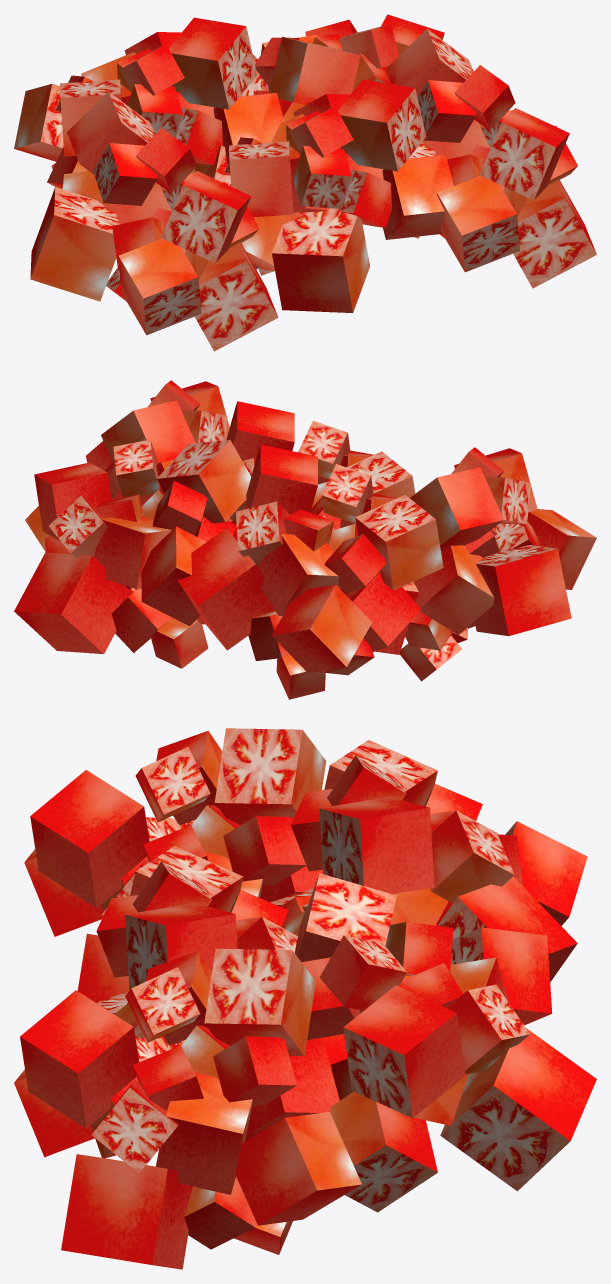
Rendered from tomatoes_stack.fbx.
3 renders of one model, top to bottom at view 1: azimuth 30°, elevation 25°; view 2: azimuth 150°, elevation 25°; view 3: azimuth 270°, elevation 25°, orthographic. The views are drawn at different scales.
Parts seen in each view (by area): view 1: BigMerge; view 2: BigMerge; view 3: BigMerge.
Boxes of the visible parts, <box> form: BigMerge: <box>14,14,596,351</box>; BigMerge: <box>14,380,596,699</box>; BigMerge: <box>14,728,596,1269</box>.
Bounding box in the file's own units: 69.04 × 41.95 × 96.69.
